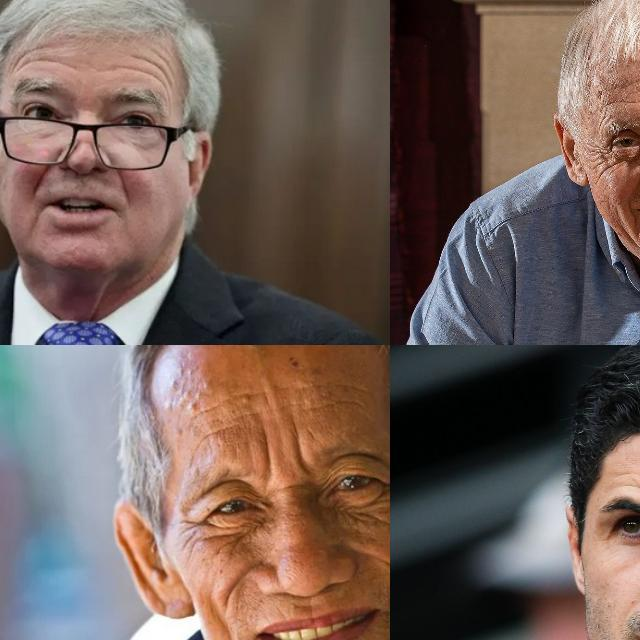crows_feet: (177, 513, 211, 551), (595, 144, 617, 166), (383, 470, 390, 502)
forehead: (13, 47, 55, 73), (141, 53, 171, 89), (321, 391, 365, 413), (331, 378, 375, 396), (191, 398, 223, 422), (198, 425, 234, 445), (602, 96, 634, 108), (617, 77, 640, 92)
frown_line: (288, 431, 312, 473), (258, 437, 278, 477)
gummy_smile: (219, 572, 249, 606), (365, 548, 390, 581), (113, 166, 133, 200), (30, 157, 48, 190)
sad_smile: (625, 201, 640, 227), (383, 617, 390, 640)
